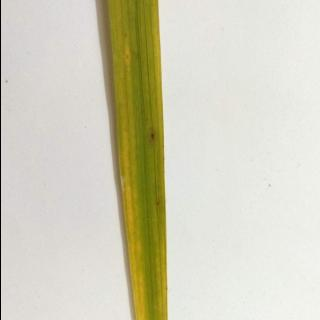bercak-Cokelat: (146, 124, 158, 150)
